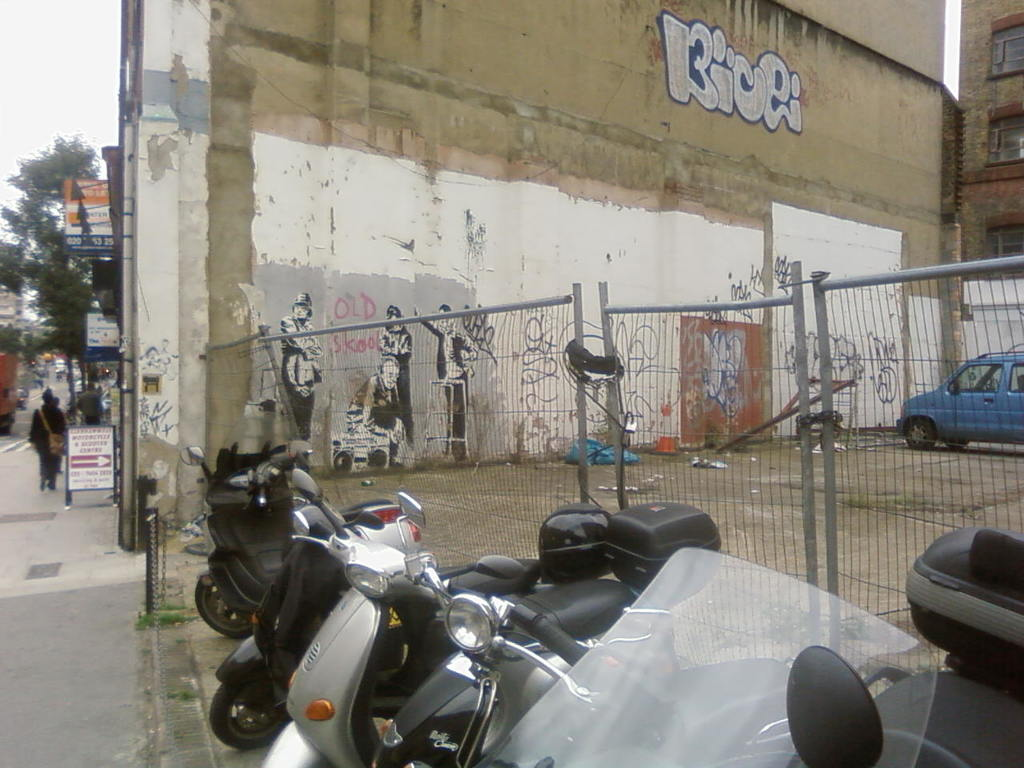Car: (899, 346, 1023, 446), (16, 390, 29, 410), (76, 381, 88, 396), (56, 360, 66, 373), (102, 401, 112, 413)
